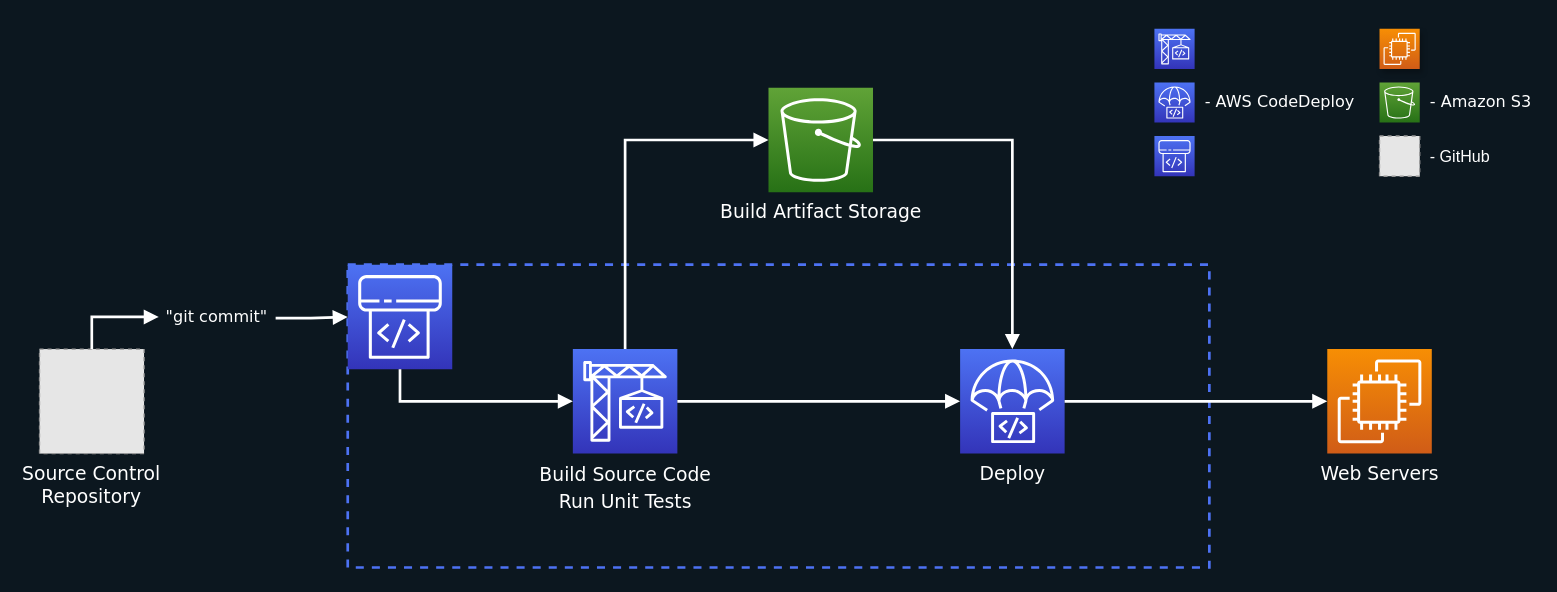
The diagram is 1557 pixels wide and 592 high, and some of its shapes have lost their labels. Grey dashed boxes stand in for pictures. The shapes that lost their labels are listed below. From the top down, each one's centre as x and y in pixels, then its label:
At pixel 1174 48: "- AWS CodeBuild".
At pixel 1400 50: "- Amazon EC2".
At pixel 1174 155: "- AWS CodePipeline".
At pixel 399 316: "Release Pipeline".
